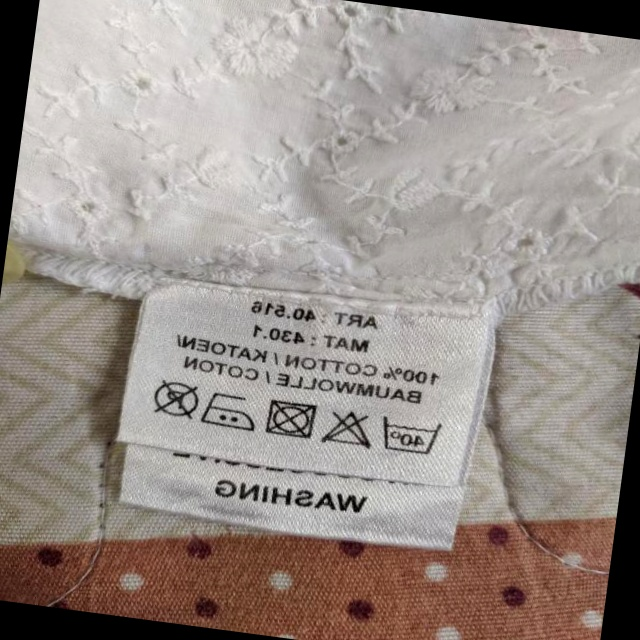40C: (377, 411, 442, 459)
DN_bleach: (322, 404, 379, 452)
DN_dry_clean: (149, 377, 202, 422)
DN_tumble_dry: (264, 397, 320, 444)
iron_medium: (200, 389, 259, 433)
